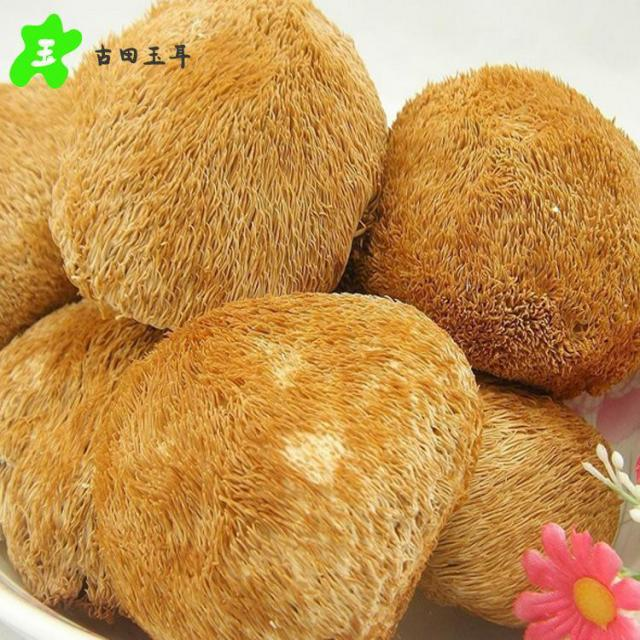Hericium erinaceus: (94, 294, 479, 640), (52, 0, 388, 325), (374, 64, 640, 394), (0, 303, 167, 623), (421, 380, 623, 624)
